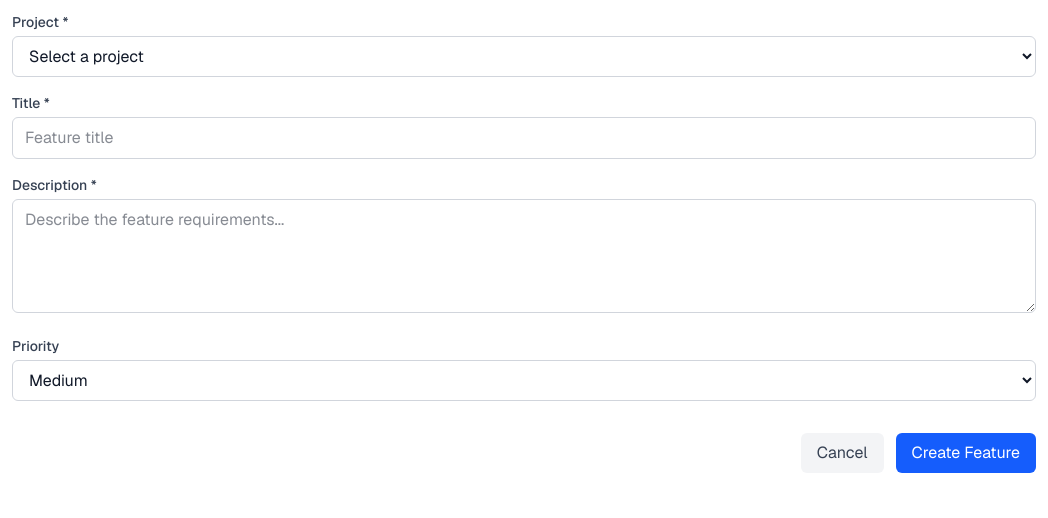
Scenario: FeatureForm › Create mode › should validate project selection
Type "New Feature" into the field labelled "Title *" at {"x": 524, "y": 138}, box [12,117,1036,159]
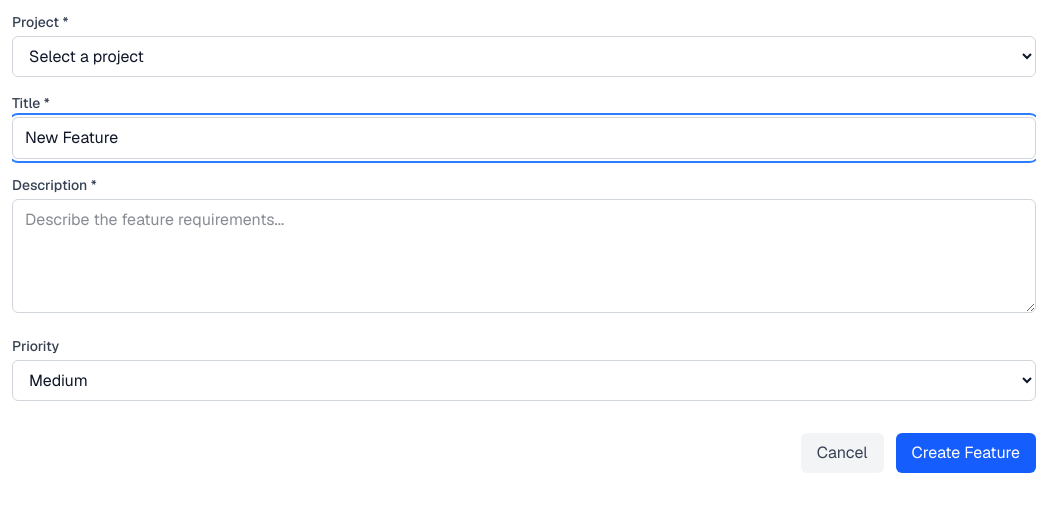
Type "Feature description" into the text box labelled "Description *" at {"x": 524, "y": 256}, box [12,199,1036,313]
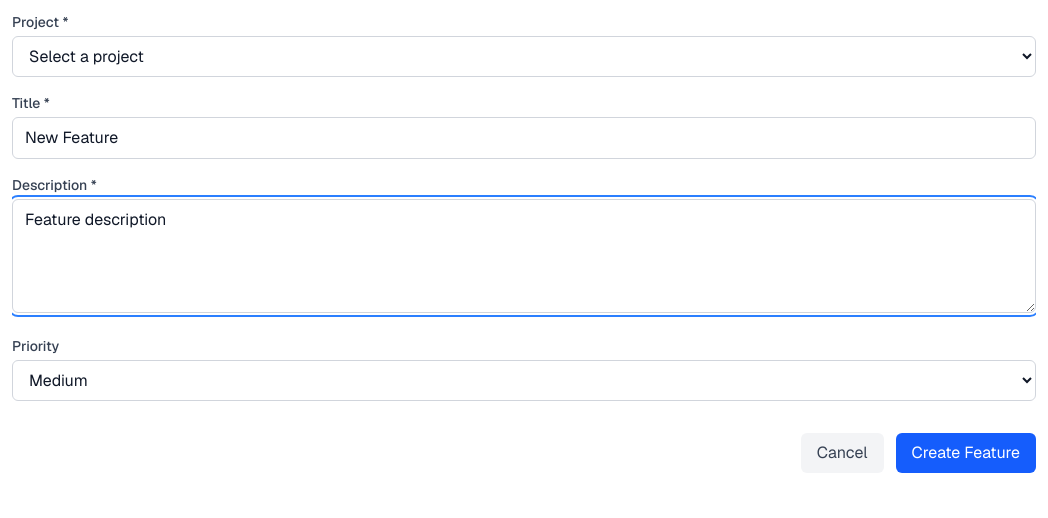
Click the button "Create Feature" at {"x": 966, "y": 453}, box [896,433,1036,473]
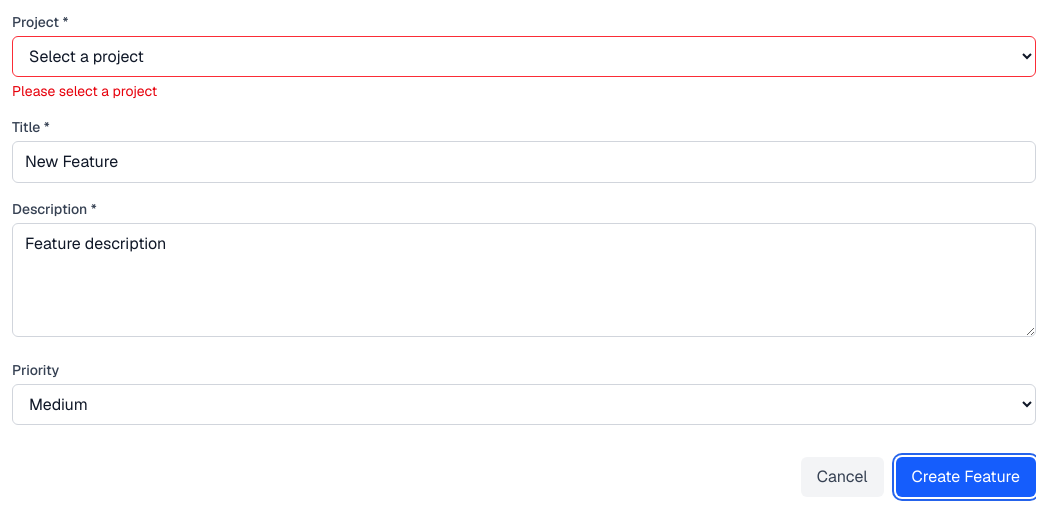
Check: the text "Please select a project" is shown, box [12,82,157,100]
